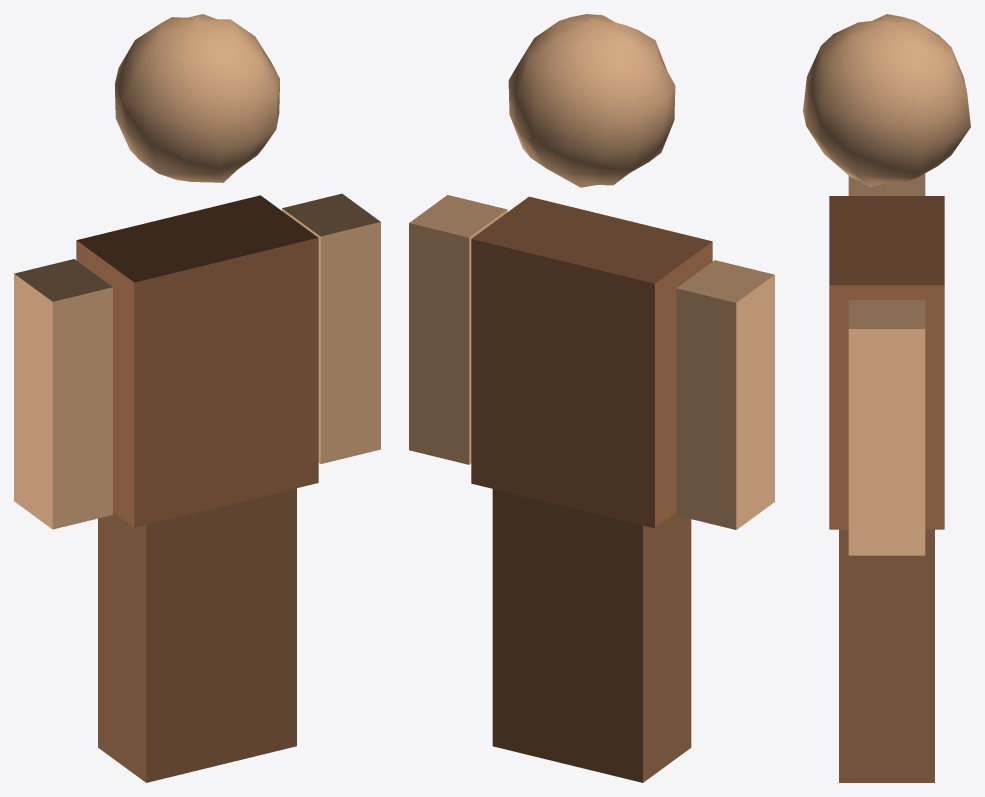
Rendered from npc_aldeao.obj.
The picture shows the model from 3 angles, left to right: view 1: azimuth 30°, elevation 25°; view 2: azimuth 150°, elevation 25°; view 3: azimuth 270°, elevation 25°; orthographic projection.
Visible parts, largest first — view 1: tronco, pernas, braco_esq, cabeca, braco_dir; view 2: tronco, pernas, braco_esq, cabeca, braco_dir; view 3: pernas, cabeca, tronco, braco_dir, braco_esq.
Boxes of the visible parts, x1=… form: tronco: x1=76, y1=195, x2=318, y2=527; pernas: x1=98, y1=488, x2=296, y2=782; braco_esq: x1=14, y1=259, x2=112, y2=529; cabeca: x1=115, y1=14, x2=279, y2=182; braco_dir: x1=282, y1=193, x2=380, y2=464; tronco: x1=471, y1=196, x2=712, y2=528; pernas: x1=492, y1=489, x2=691, y2=782; braco_esq: x1=676, y1=260, x2=774, y2=529; cabeca: x1=508, y1=14, x2=675, y2=187; braco_dir: x1=409, y1=195, x2=507, y2=464; pernas: x1=839, y1=529, x2=934, y2=782; cabeca: x1=803, y1=14, x2=970, y2=187; tronco: x1=829, y1=196, x2=944, y2=529; braco_dir: x1=848, y1=300, x2=925, y2=555; braco_esq: x1=848, y1=173, x2=925, y2=195.
Size of the model in its own units: 0.98 by 2.08 by 0.4366.
